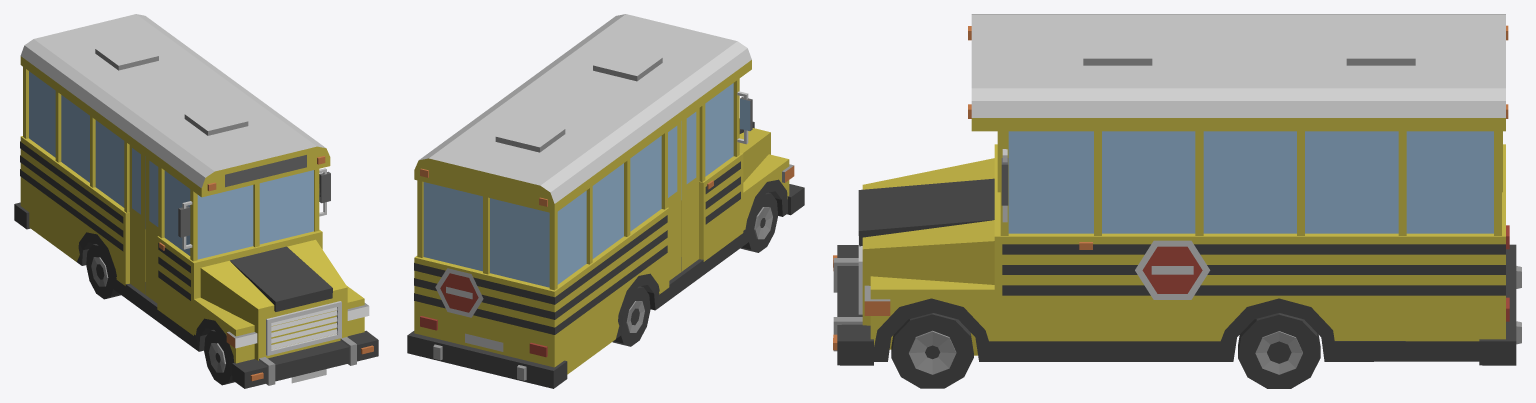
The model's file is transport_bus_002.glb.
3 views of the same model, side by side, from view 1: azimuth 30°, elevation 25°; view 2: azimuth 150°, elevation 25°; view 3: azimuth 270°, elevation 25° (orthographic). The views are drawn at different scales.
Parts seen in each view (by area): view 1: transport_bus_002; view 2: transport_bus_002; view 3: transport_bus_002.
Part boxes in pixels (x1,y1,x2,y2): transport_bus_002: (14, 14, 378, 388); transport_bus_002: (407, 14, 804, 388); transport_bus_002: (833, 14, 1521, 388).
Bounding box in the file's own units: 2.02 × 2.62 × 5.44.
1 material, 1 textured.
